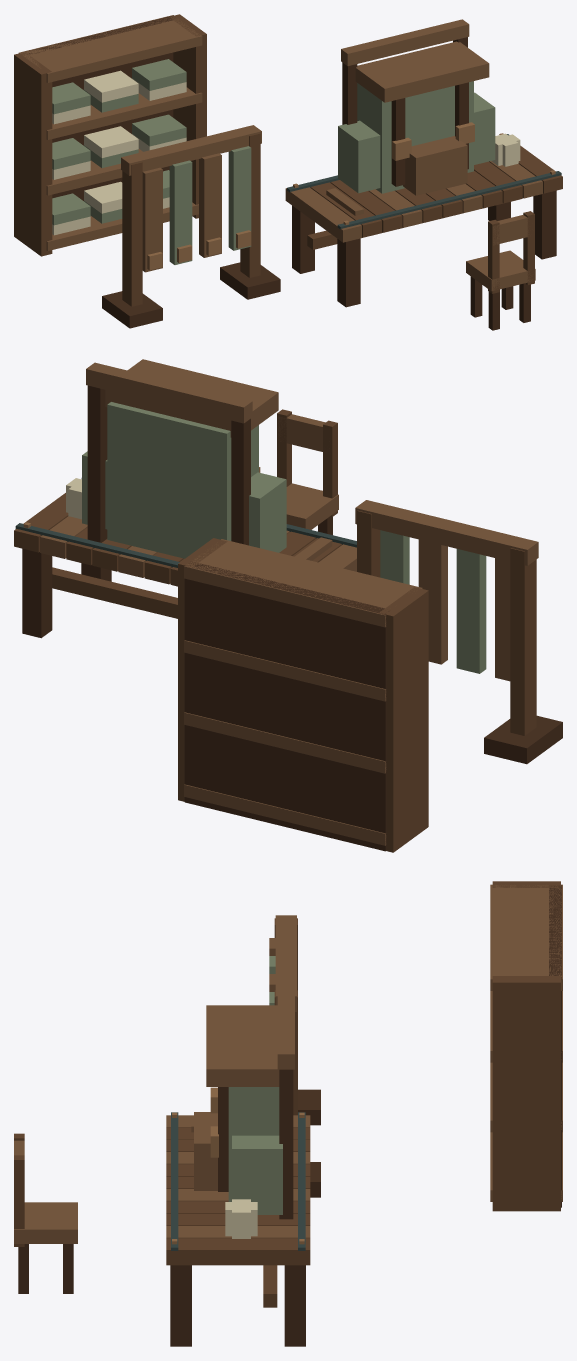
File: B38_expand.glb
The picture shows the model from 3 angles, top to bottom: view 1: azimuth 30°, elevation 25°; view 2: azimuth 150°, elevation 25°; view 3: azimuth 270°, elevation 25°; orthographic projection. The views are drawn at different scales.
Visible parts, largest first — view 1: B38_expand__fabric_ShelfBoard_woodlight, B38_expand__fabric_ShelfUpright_wood, B38_expand__fabric_FoldedCloth_cloth, B38_expand__fabric_FoldedCloth_bone, B38_expand__main_station_TableTop_wood, B38_expand__main_station_PackFlap_woodlight, B38_expand__main_station_PackBody_cloth, B38_expand__main_station_TableLegs_wooddark, B38_expand__straps_RackPost_wood, B38_expand__straps_HangingStrap_cloth, B38_expand__main_station_PackSidePocket_cloth, B38_expand__straps_HangingStrap_woodlight (+18 smaller); view 2: B38_expand__fabric_ShelfBack_wooddark, B38_expand__fabric_ShelfBoard_woodlight, B38_expand__main_station_PackBody_cloth, B38_expand__fabric_ShelfUpright_wood, B38_expand__straps_RackPost_wood, B38_expand__main_station_RepairFrame_wooddark, B38_expand__straps_HangingStrap_cloth, B38_expand__straps_HangingStrap_woodlight, B38_expand__straps_RackRail_woodlight, B38_expand__main_station_PackFlap_woodlight, B38_expand__main_station_RepairCrossbar_woodlight, B38_expand__main_station_TableTop_wood (+9 smaller); view 3: B38_expand__fabric_ShelfUpright_wood, B38_expand__main_station_TableTop_wood, B38_expand__fabric_ShelfBoard_woodlight, B38_expand__main_station_PackFlap_woodlight, B38_expand__main_station_PackSidePocket_cloth, B38_expand__main_station_TableLegs_wooddark, B38_expand__main_station_TableTop_woodlight, B38_expand__main_station_PackBody_cloth, B38_expand__seat_Seat_woodlight, B38_expand__main_station_TableBands_iron, B38_expand__main_station_RepairFrame_wooddark, B38_expand__main_station_FrontPocket_woodlight (+10 smaller).
Boxes of the visible parts, <box> form: B38_expand__fabric_ShelfBoard_woodlight: <box>18,15,202,250</box>; B38_expand__fabric_ShelfUpright_wood: <box>14,14,206,256</box>; B38_expand__fabric_FoldedCloth_cloth: <box>52,59,186,225</box>; B38_expand__fabric_FoldedCloth_bone: <box>52,70,186,235</box>; B38_expand__main_station_TableTop_wood: <box>310,145,562,237</box>; B38_expand__main_station_PackFlap_woodlight: <box>355,41,489,102</box>; B38_expand__main_station_PackBody_cloth: <box>357,81,473,193</box>; B38_expand__main_station_TableLegs_wooddark: <box>292,190,556,307</box>; B38_expand__straps_RackPost_wood: <box>122,133,260,306</box>; B38_expand__straps_HangingStrap_cloth: <box>169,146,251,264</box>; B38_expand__main_station_PackSidePocket_cloth: <box>338,92,495,193</box>; B38_expand__straps_HangingStrap_woodlight: <box>142,153,221,272</box>; B38_expand__fabric_ShelfBack_wooddark: <box>184,561,389,851</box>; B38_expand__fabric_ShelfBoard_woodlight: <box>184,539,422,845</box>; B38_expand__main_station_PackBody_cloth: <box>107,402,258,558</box>; B38_expand__fabric_ShelfUpright_wood: <box>178,538,428,852</box>; B38_expand__straps_RackPost_wood: <box>357,510,536,735</box>; B38_expand__main_station_RepairFrame_wooddark: <box>87,385,250,545</box>; B38_expand__straps_HangingStrap_cloth: <box>380,530,486,673</box>; B38_expand__straps_HangingStrap_woodlight: <box>418,539,510,681</box>; B38_expand__straps_RackRail_woodlight: <box>355,500,538,565</box>; B38_expand__main_station_PackFlap_woodlight: <box>105,359,278,437</box>; B38_expand__main_station_RepairCrossbar_woodlight: <box>86,362,252,423</box>; B38_expand__main_station_TableTop_wood: <box>14,493,341,586</box>; B38_expand__fabric_ShelfUpright_wood: <box>492,881,560,1211</box>; B38_expand__main_station_TableTop_wood: <box>166,1127,310,1265</box>; B38_expand__fabric_ShelfBoard_woodlight: <box>490,884,562,1201</box>; B38_expand__main_station_PackFlap_woodlight: <box>206,1005,279,1086</box>; B38_expand__main_station_PackSidePocket_cloth: <box>232,1135,282,1214</box>; B38_expand__main_station_TableLegs_wooddark: <box>170,1265,305,1346</box>; B38_expand__main_station_TableTop_woodlight: <box>166,1115,310,1238</box>; B38_expand__main_station_PackBody_cloth: <box>228,1087,279,1201</box>; B38_expand__seat_Seat_woodlight: <box>14,1202,77,1243</box>; B38_expand__main_station_TableBands_iron: <box>171,1112,305,1250</box>; B38_expand__main_station_RepairFrame_wooddark: <box>279,1069,293,1219</box>; B38_expand__main_station_FrontPocket_woodlight: <box>194,1112,217,1190</box>.
Size of the model in its own units: 5.42 by 2.74 by 5.14.
